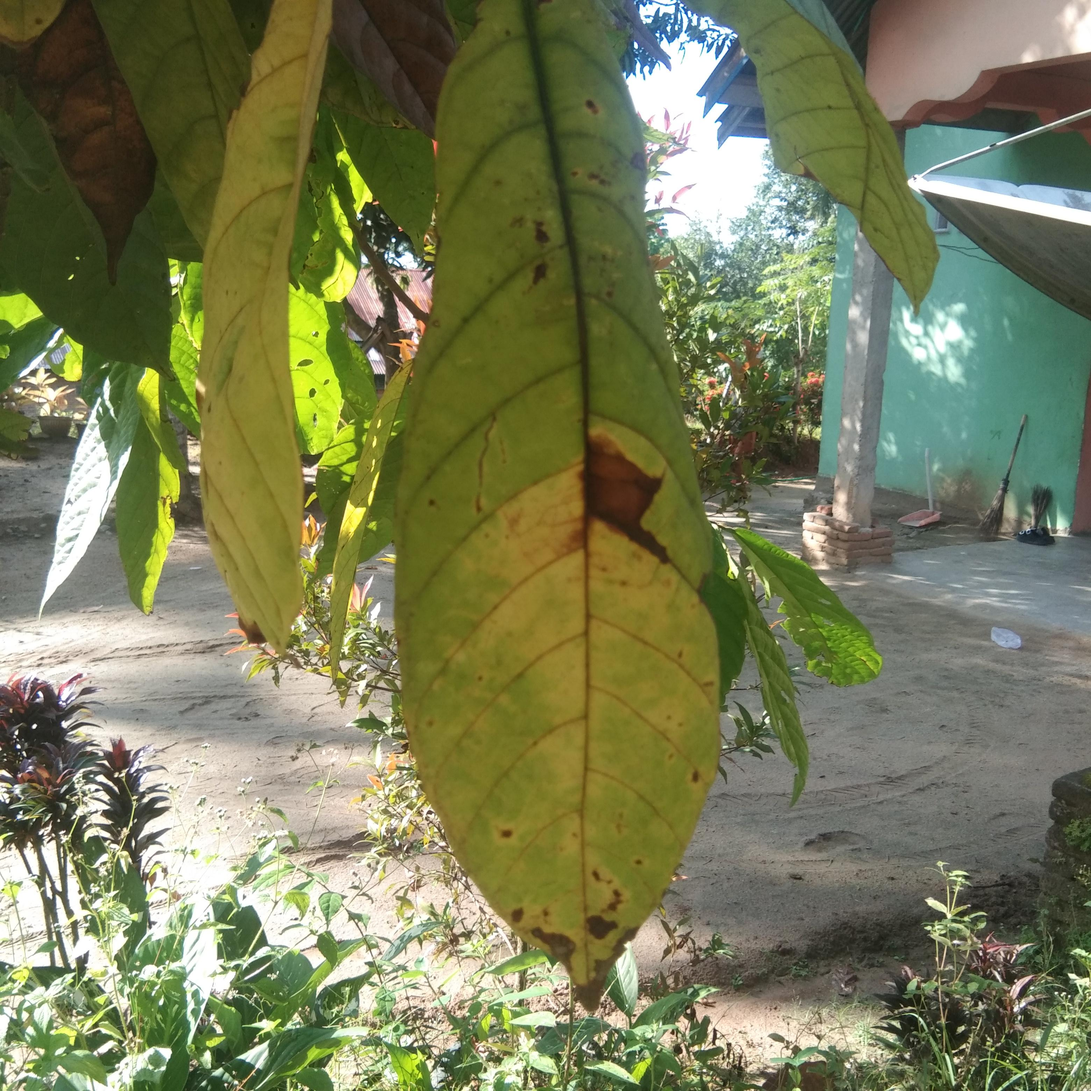deficiencia_potasio: (393, 0, 720, 1018)
